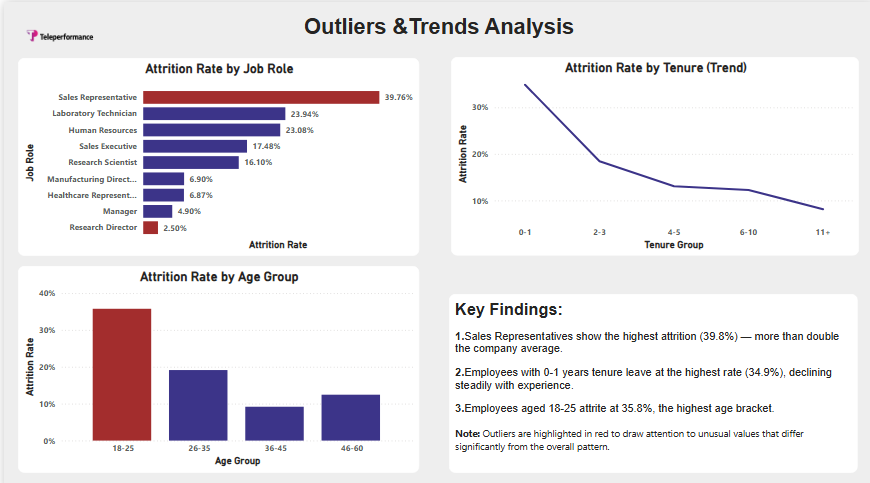

What the dashboard file says about the page in this screenshot:
{"tool":"powerbi","page":{"name":"Outliers & Trends","canvas":[1280,720],"ordinal":1},"visuals":[{"type":"clusteredBarChart","title":"Attrition Rate by Job Role","fields":{"Category":["Dim_JobRole.JobRole"],"Y":["_Measures.Attrition Rate %"]},"box":[20.2,82.1,590.4,290.9],"z":0},{"type":"lineChart","title":"Attrition Rate by Tenure (Trend)","fields":{"Y":["_Measures.Attrition Rate %"],"Category":["Fact_Employee.TenureGroup"]},"box":[656.6,80.6,600,292.3],"z":1000},{"type":"clusteredColumnChart","title":"Attrition Rate by Age Group","fields":{"Category":["Fact_Employee.AgeGroup"],"Y":["_Measures.Attrition Rate %"]},"box":[20,388.8,590,303.8],"z":2000},{"type":"textbox","box":[655,430,601.2,262.5],"z":3000},{"type":"textbox","box":[423.8,12.5,432.5,47.5],"z":4000},{"type":"image","box":[0,0,165,98.8],"z":5000}]}

Visuals, with their boxes in screenshot pixels (x1, y1, x2, y2), scaled from the page's 1280x720 canvas onto the 870x483 screenshot:
"Attrition Rate by Job Role" clusteredBarChart: (14, 55, 415, 250)
"Attrition Rate by Tenure (Trend)" lineChart: (446, 54, 854, 250)
"Attrition Rate by Age Group" clusteredColumnChart: (14, 261, 415, 465)
textbox: (445, 288, 854, 465)
textbox: (288, 8, 582, 40)
image: (0, 0, 112, 66)
